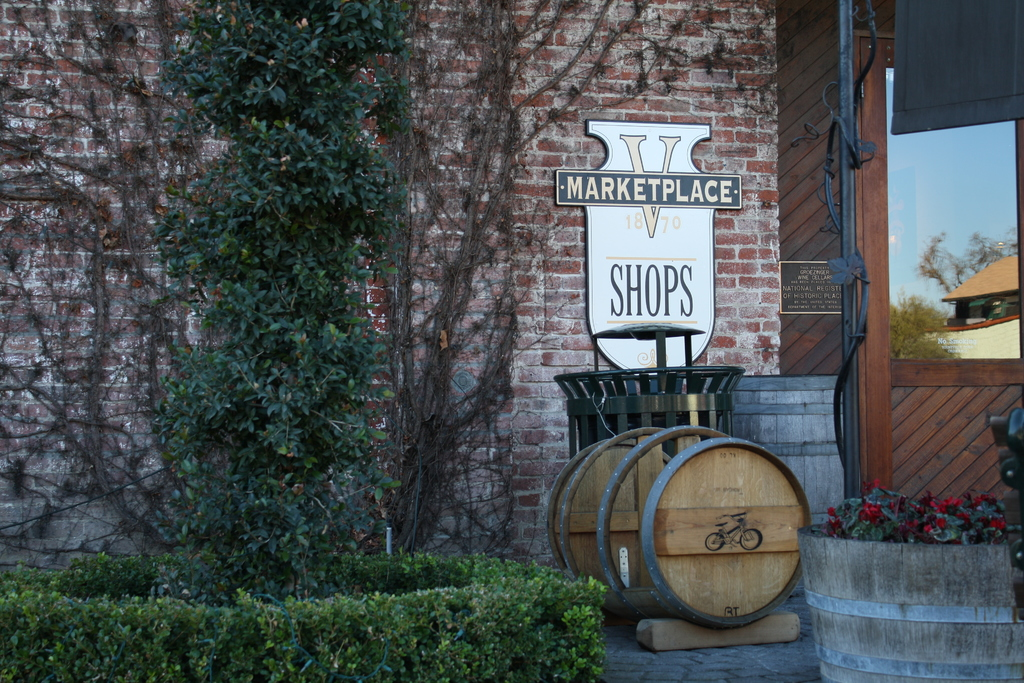Tree: (0, 0, 723, 682)
